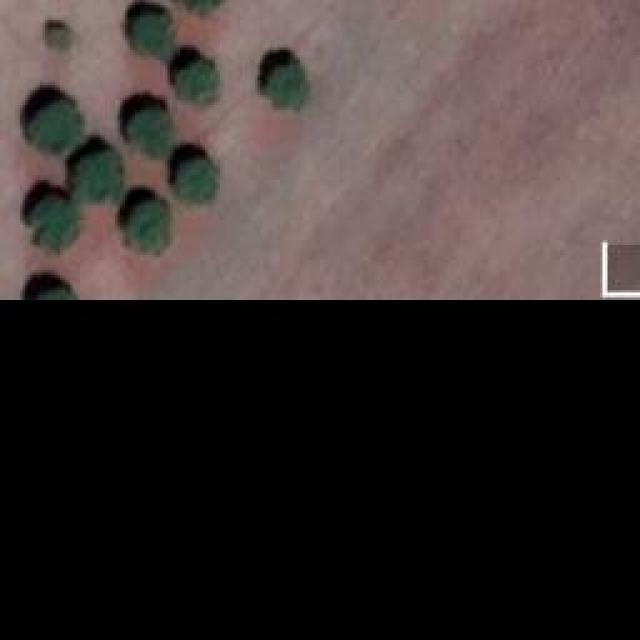Tree: (33, 100, 86, 150), (40, 190, 83, 250), (75, 148, 123, 201), (133, 8, 178, 61), (130, 110, 175, 158), (175, 157, 218, 205), (180, 62, 220, 110), (130, 205, 168, 253), (265, 68, 308, 108), (25, 272, 78, 300), (45, 25, 78, 53), (173, 0, 223, 15)
